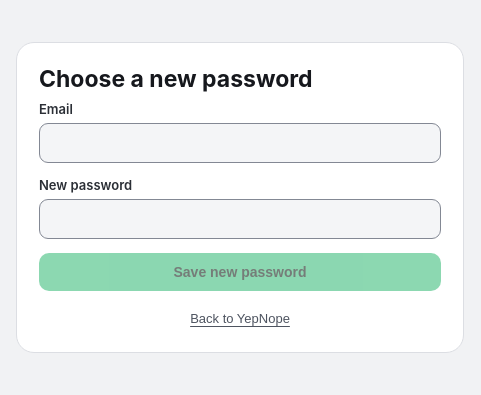
Test: Better Auth account routes › keeps expired and replayed reset-token failures in the reset state
In the field labelled "Email": (240, 142) [39, 122, 441, 162], type "alice@example.com"
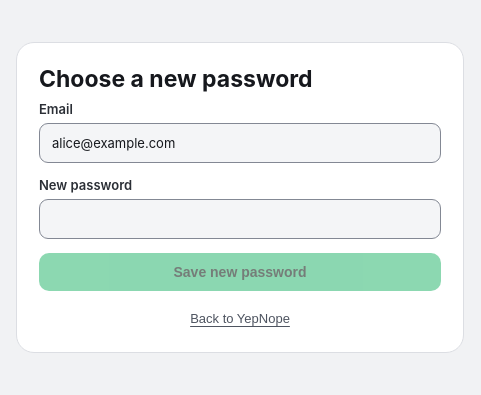
In the password field labelled "New password": (240, 218) [39, 198, 441, 238], type "replacement-password"
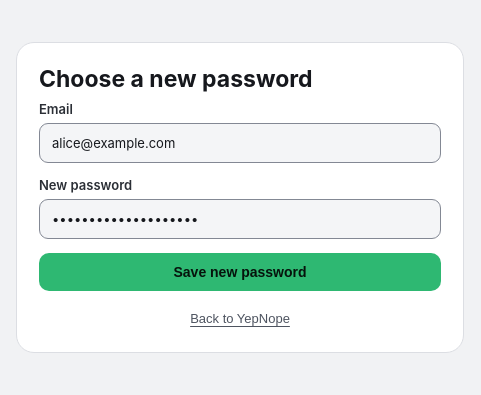
Check: the button "Save new password" is enabled
Click the button "Save new password": (240, 272) [39, 252, 441, 290]
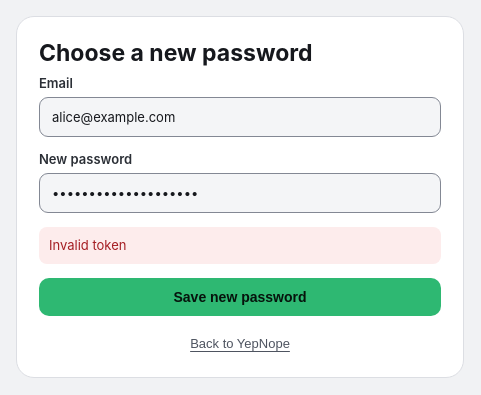
Check: the message reads "Invalid token", box [49, 237, 126, 253]
